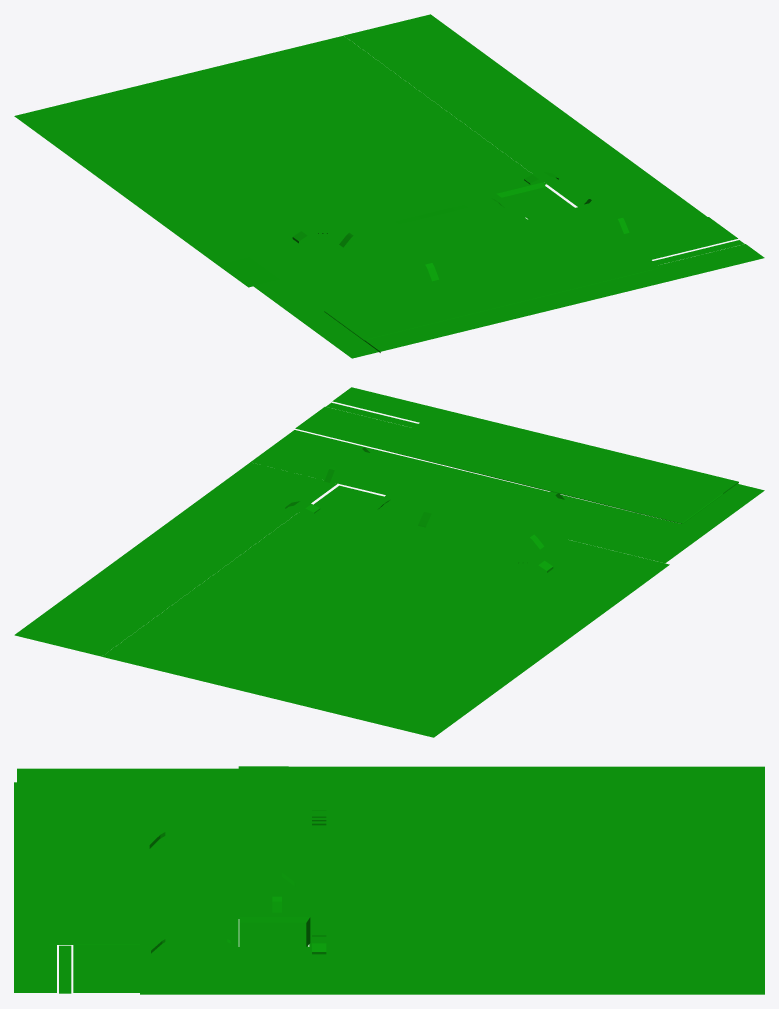
The model's file is Walkable.fbx.
3 renders of one model, top to bottom at view 1: azimuth 30°, elevation 25°; view 2: azimuth 150°, elevation 25°; view 3: azimuth 270°, elevation 25°, orthographic. The views are drawn at different scales.
Parts seen in each view (by area): view 1: Walkable3; view 2: Walkable3; view 3: Walkable3.
Boxes of the visible parts, box(x1,y1,x2,y2) form: Walkable3: box(14, 14, 764, 358); Walkable3: box(14, 387, 764, 737); Walkable3: box(14, 766, 764, 994).
Bounding box in the file's own units: 6906 × 228 × 9606.
